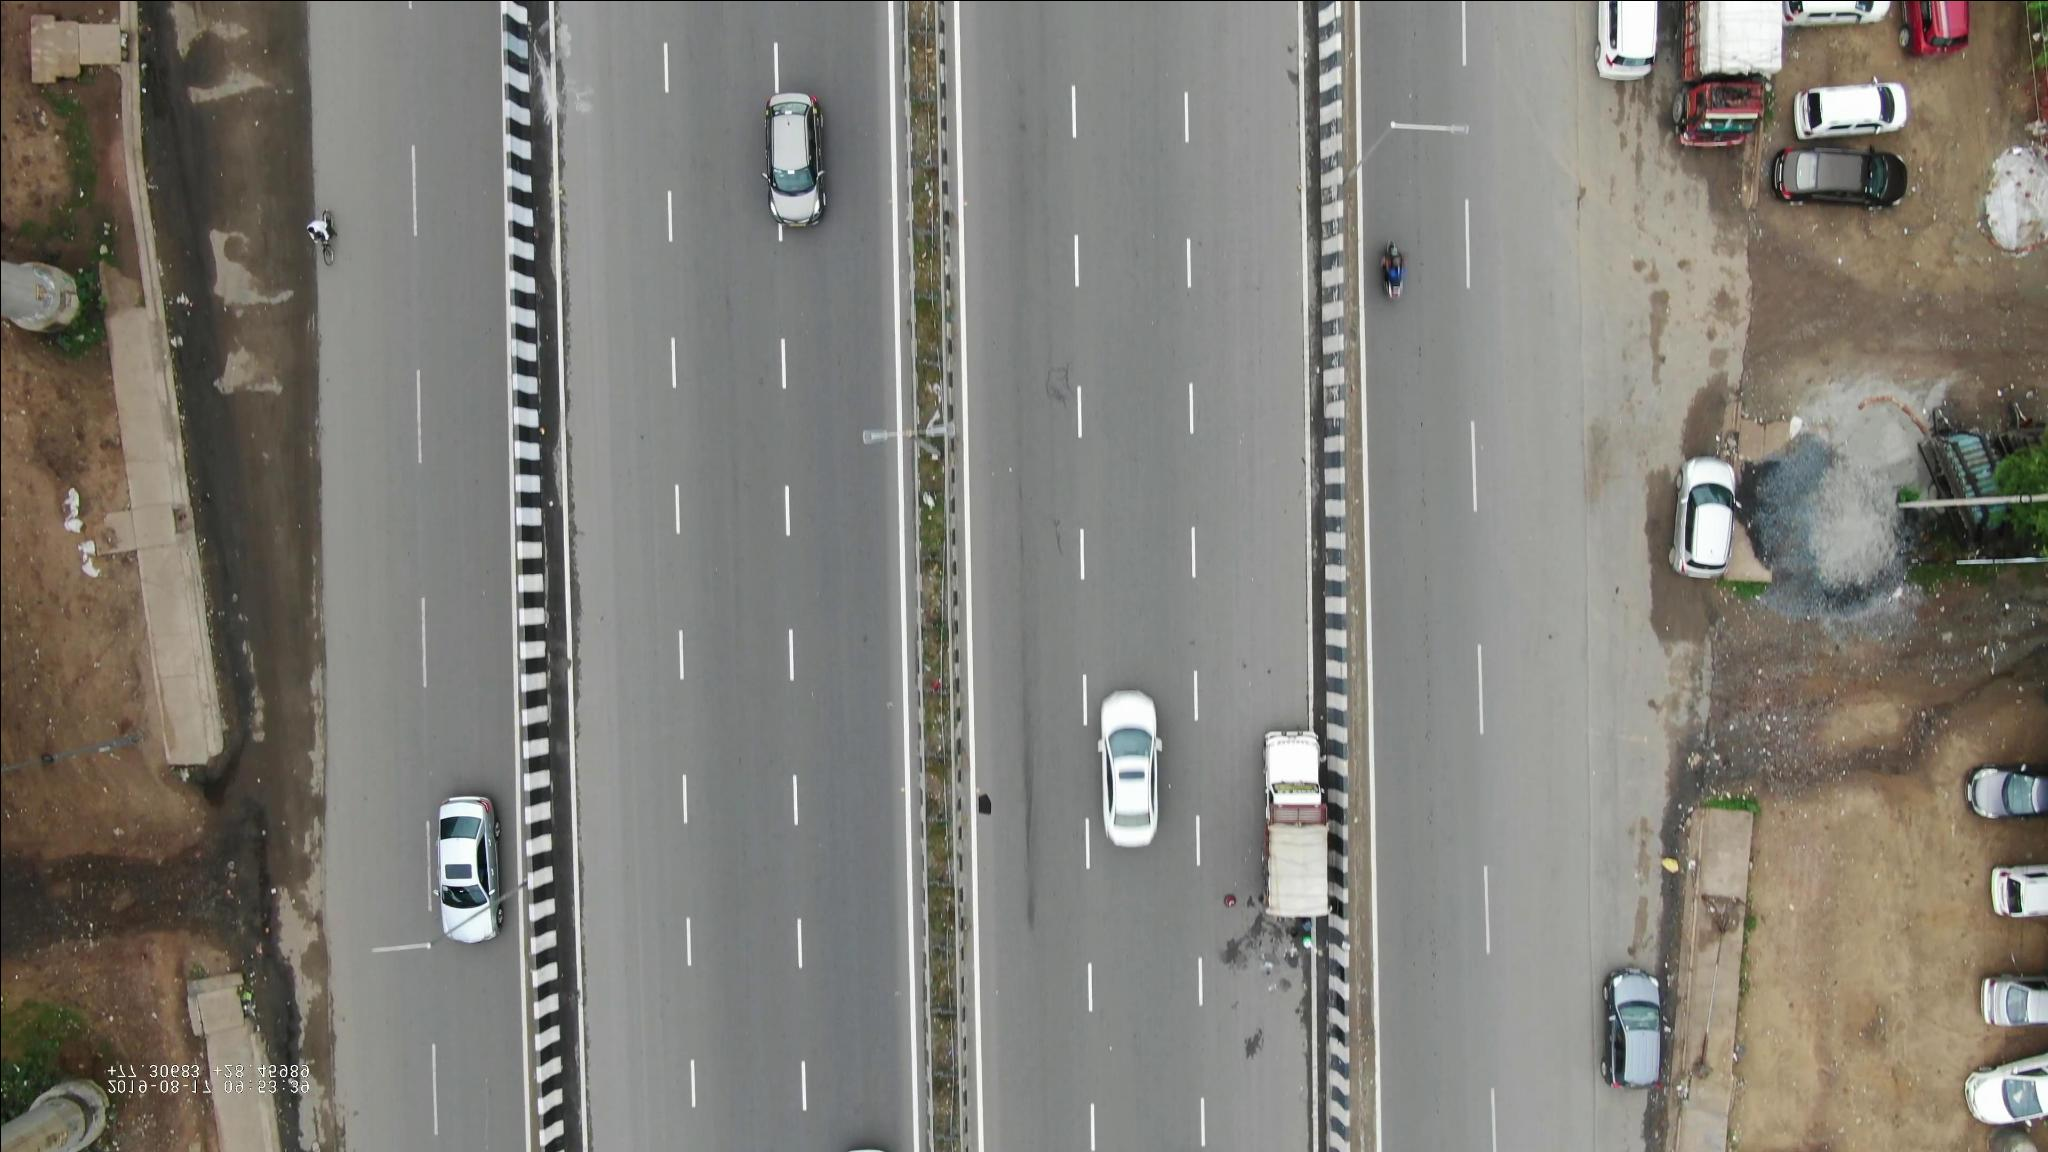Cracks: (1212, 924, 1310, 1059)
Muddy_road: (243, 893, 311, 1049), (1665, 634, 1723, 792)
